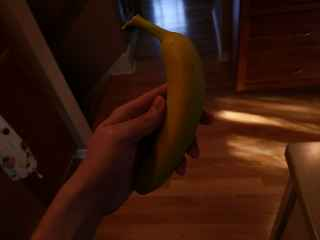banana: (112, 10, 209, 200)
